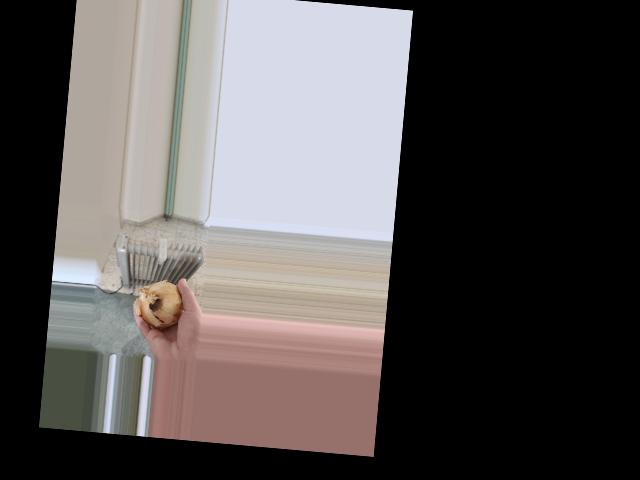onion: (137, 277, 187, 338)
